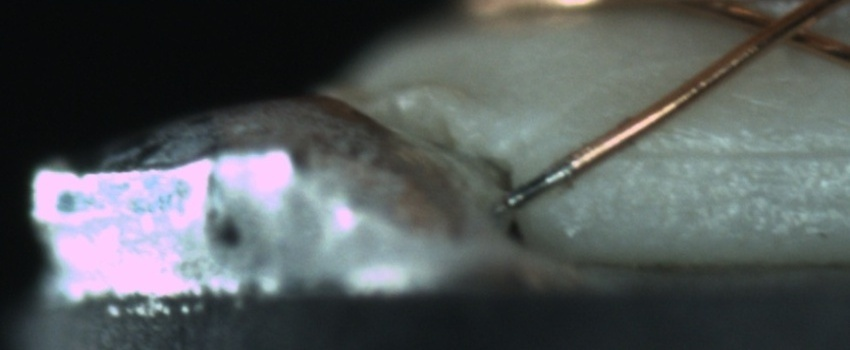CL: (737, 2, 829, 55)
DL: (620, 118, 844, 186)
TS: (505, 156, 578, 210)
TTCW: (500, 135, 601, 212)
